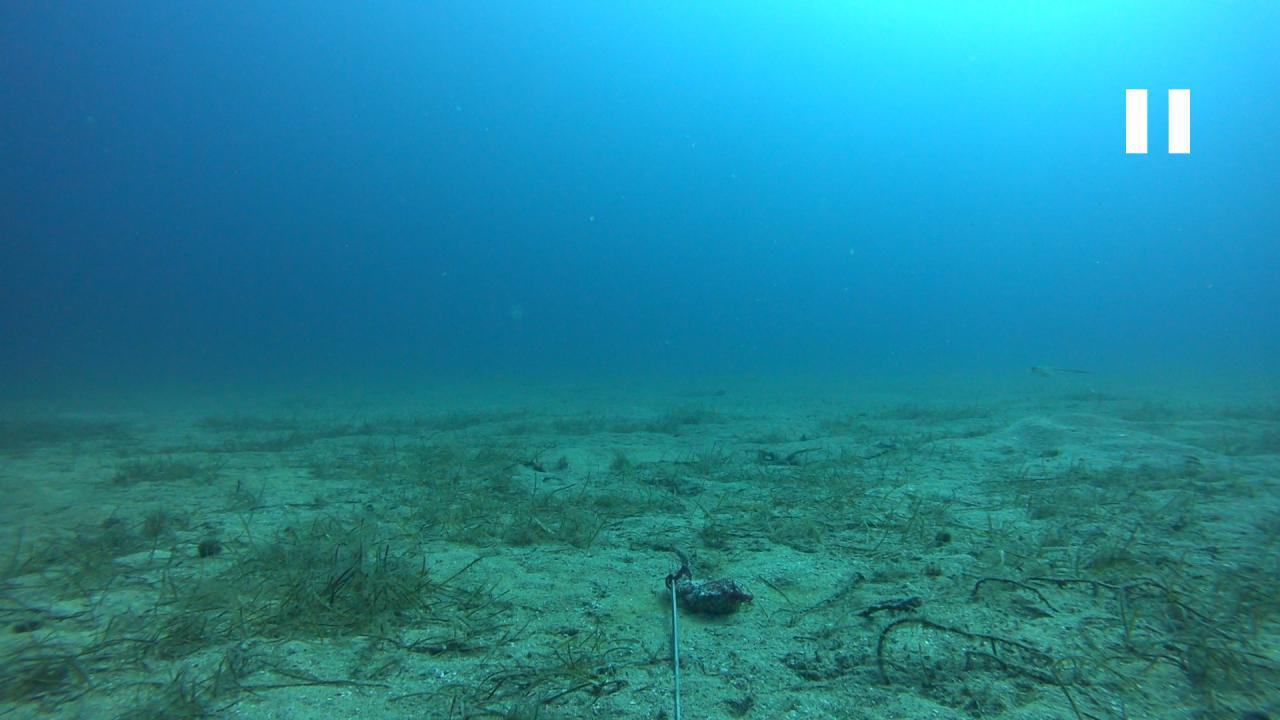dasyatis: (1026, 362, 1096, 379)
